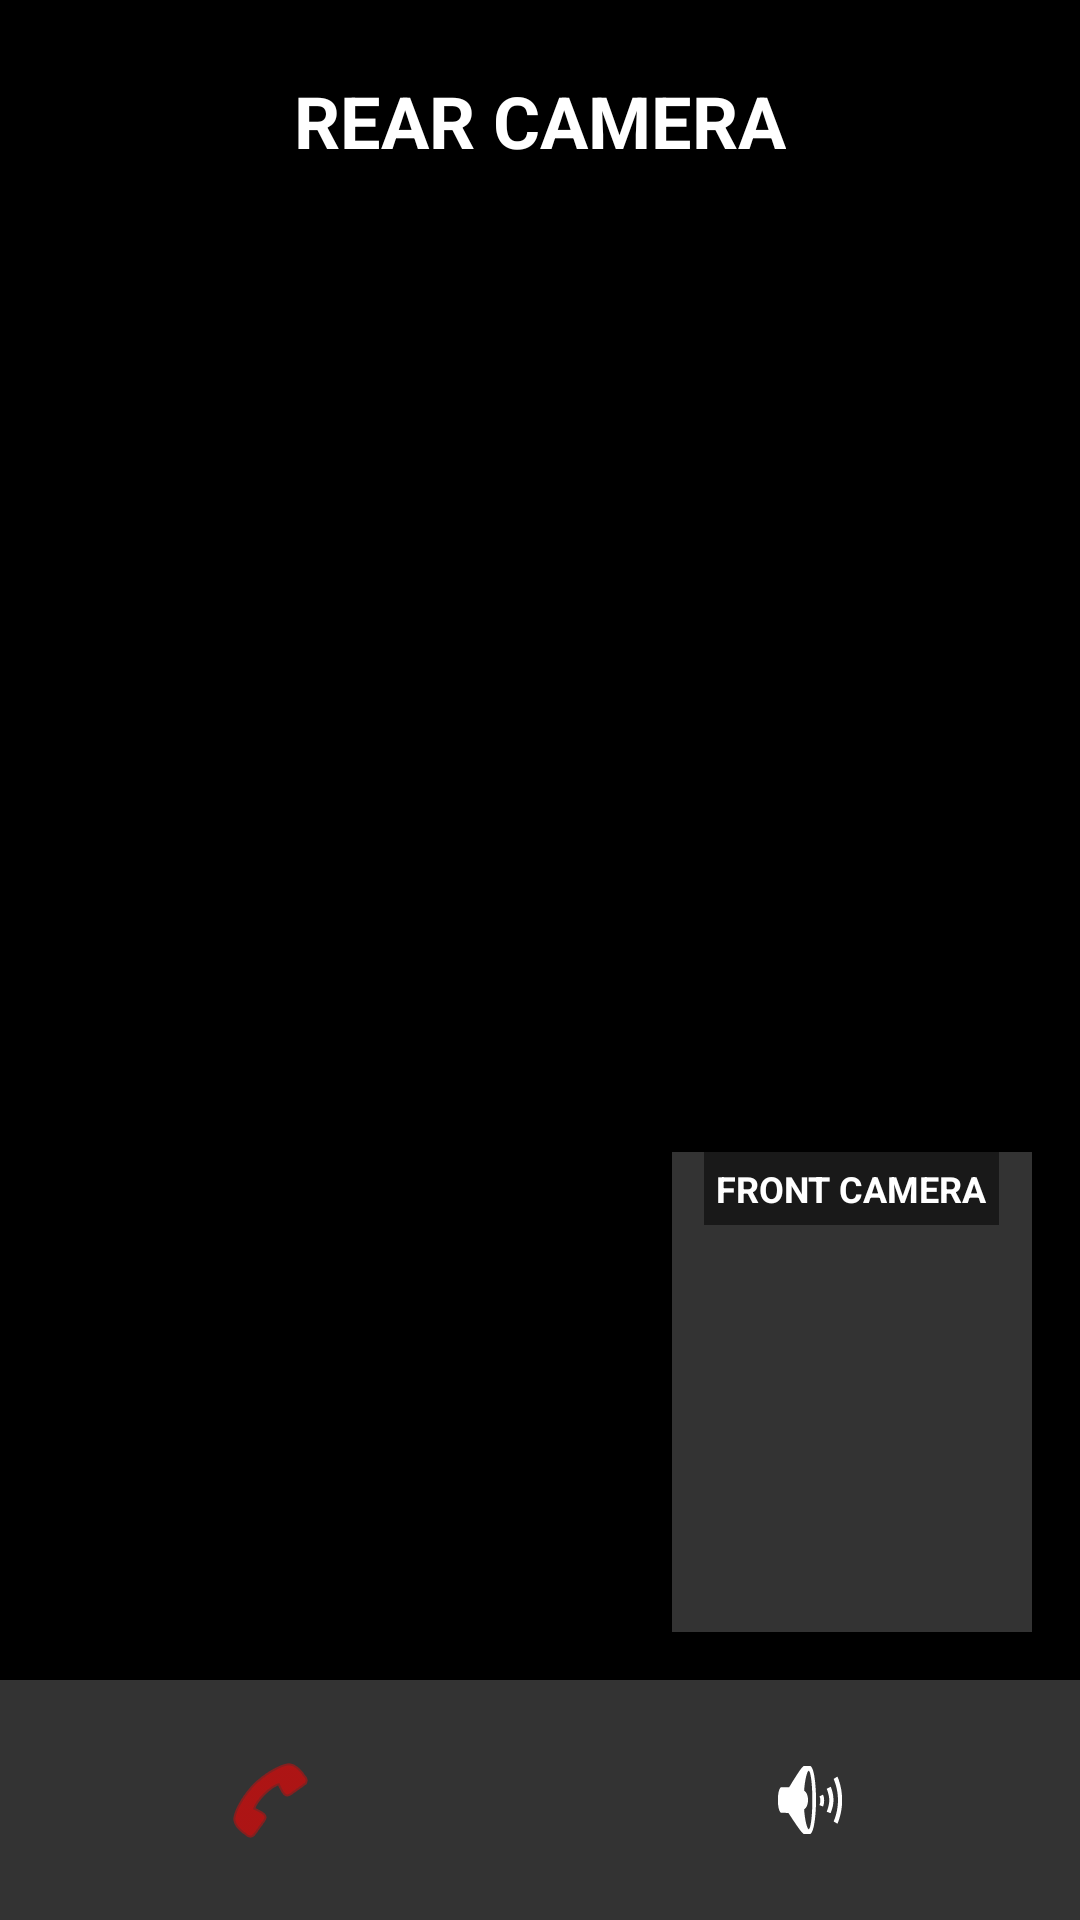

Screen size 1080*1920. Icon name, then its center in pixels as (x=x, y=y):
End Stream: (x=270, y=1800)
Mute: (x=810, y=1800)
